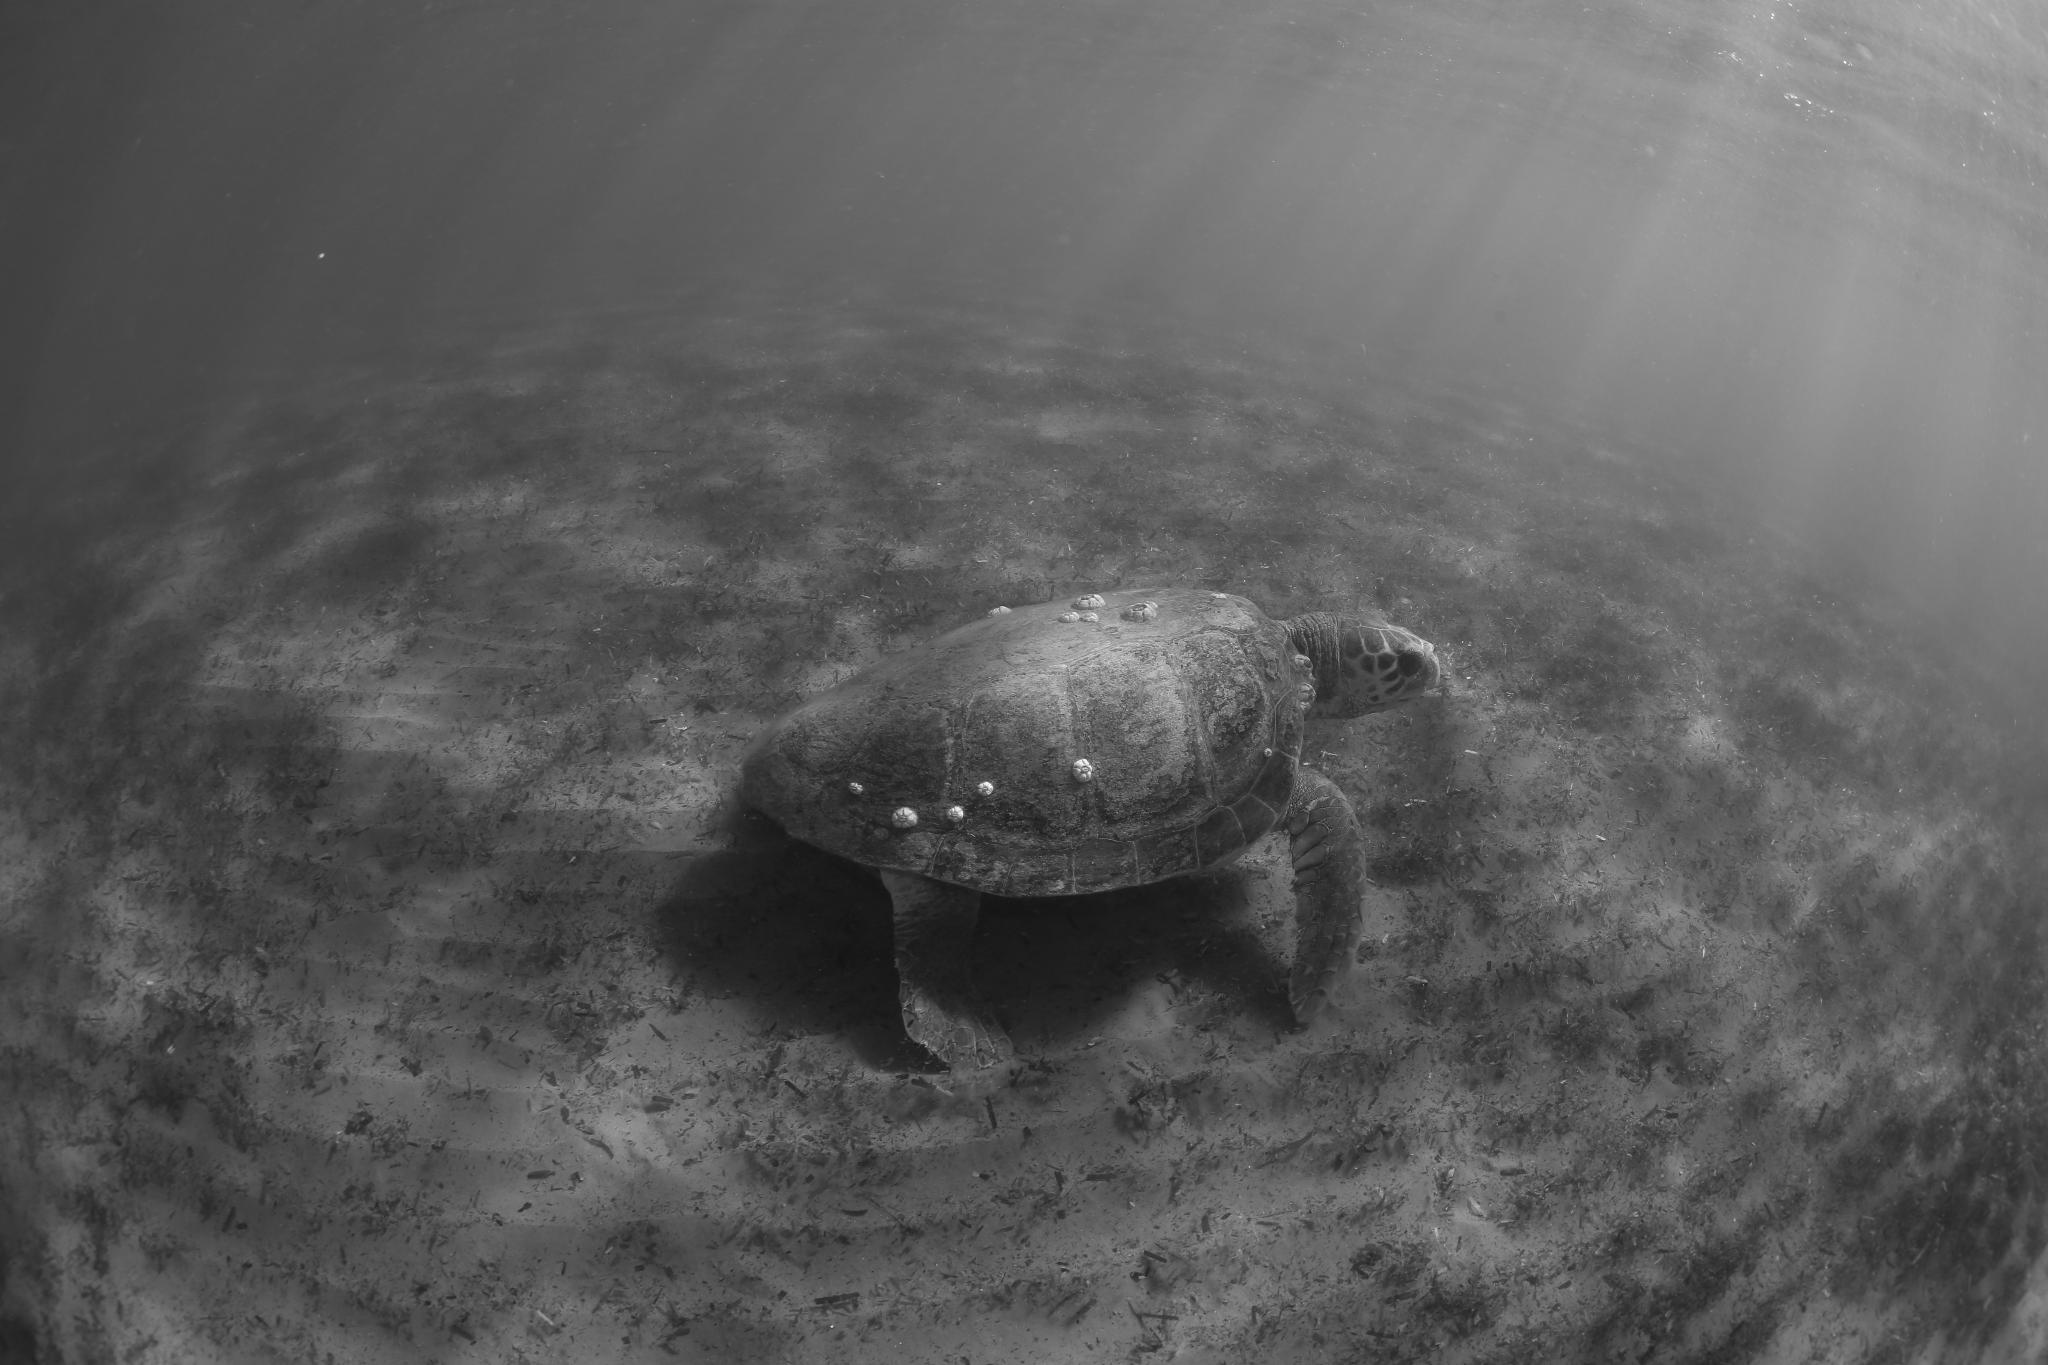Head: (1280, 613, 1442, 719)
